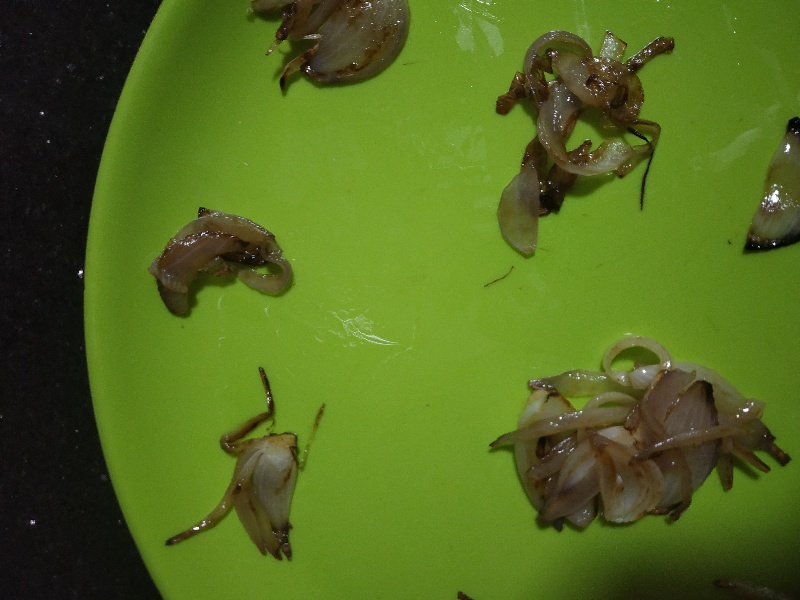onion_burnt: (248, 1, 410, 97)
onion_fried: (508, 27, 673, 216), (131, 211, 299, 302)
onion_golden: (497, 346, 788, 532), (177, 402, 302, 561)
